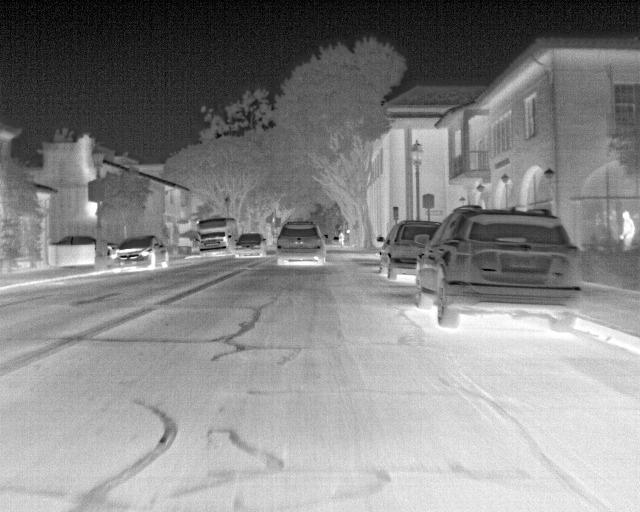bicycle: (415, 204, 582, 330), (374, 218, 441, 285), (275, 219, 327, 265), (107, 236, 170, 271), (195, 217, 237, 255), (233, 233, 267, 261), (49, 234, 97, 246)
empty: (618, 209, 636, 249)
